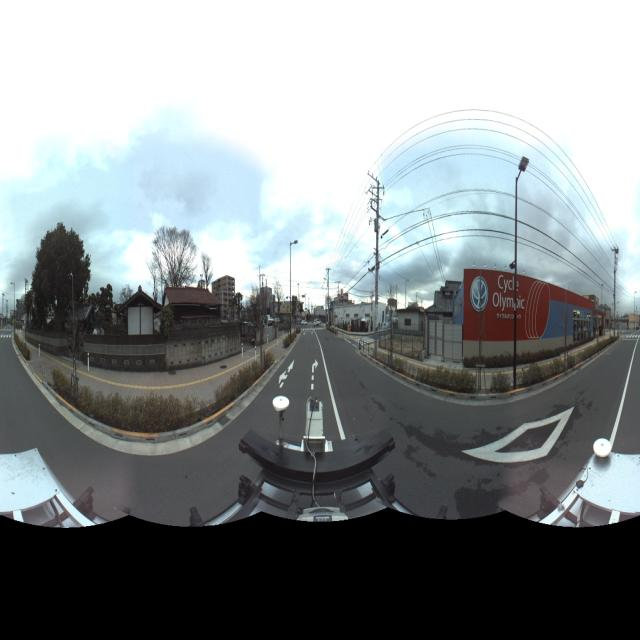b_1: (332, 288, 385, 337), (211, 268, 235, 323), (274, 295, 303, 328)
